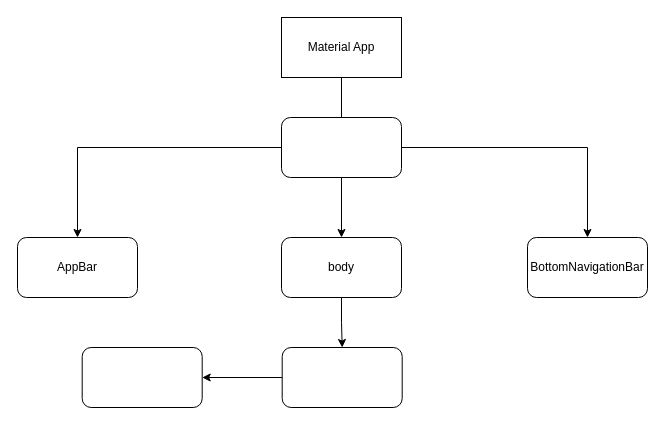
Image size: 665x425. Some labels were removed from this diagram. The shapes that lost their labels are listed below. From the top down, each one's centre as x and y in pixels, then its label:
point (341, 147): Scaffold
point (341, 377): Column
